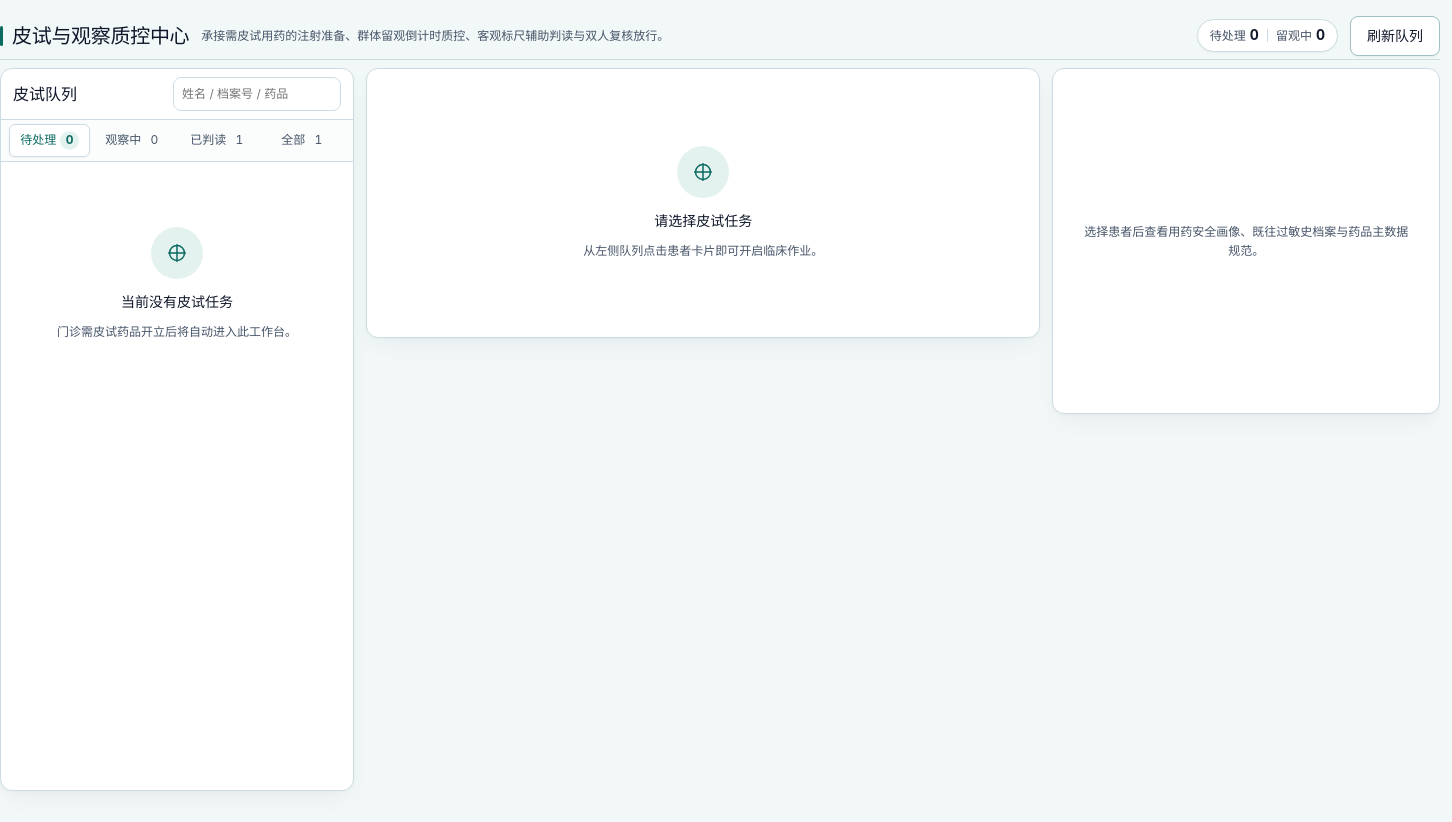
Test: SkinTestManagementWorkspace › renders nurse name and short code instead of database primary keys for executor and verifier
Click the button "已判读 1" at (220, 140), box [179, 124, 260, 157]
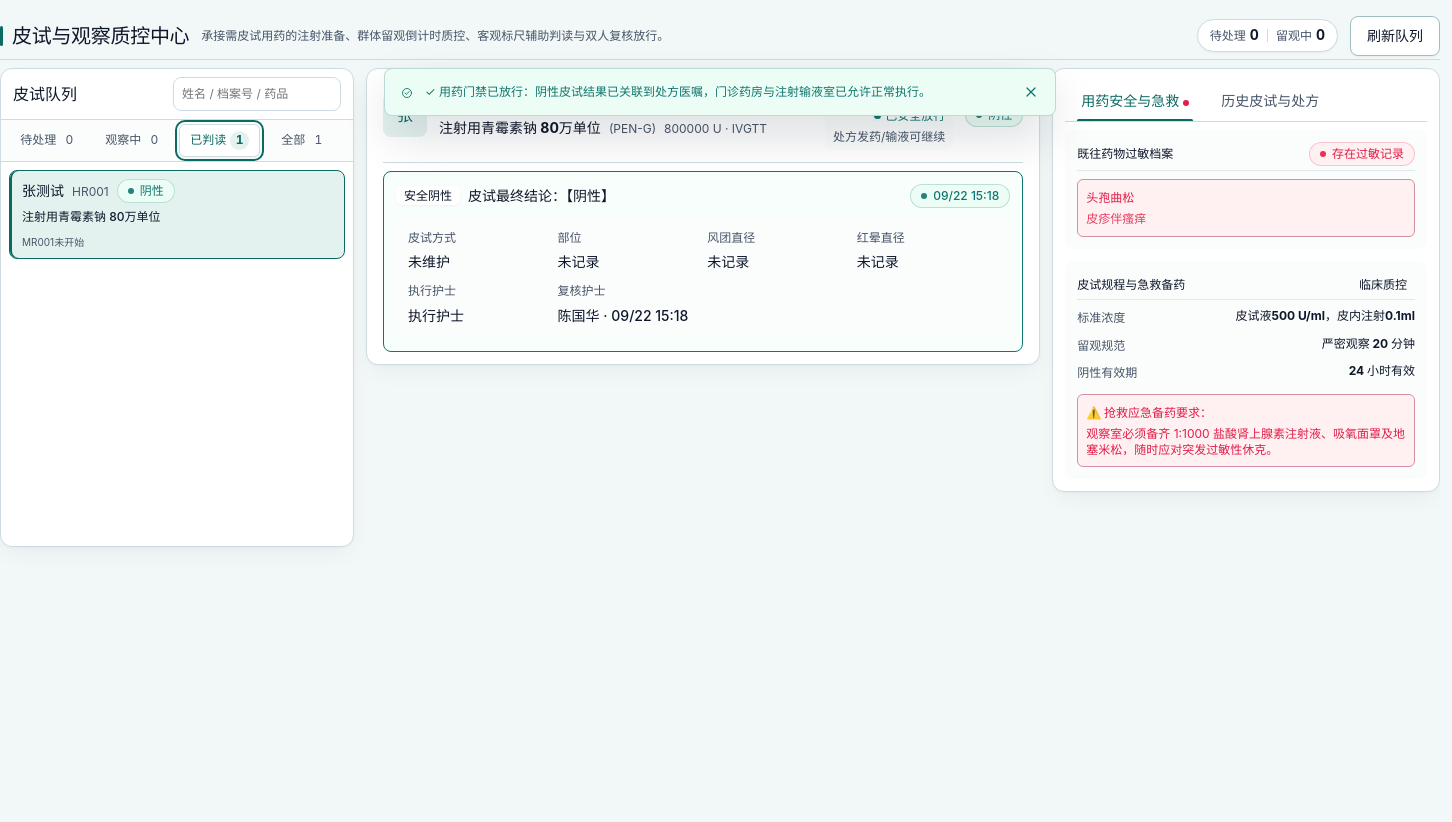
expect the heading "皮试最终结论：【阴性】" is shown: met, box [468, 185, 615, 206]
expect the text "陈国华 · 09/22 15:18" is shown: met, box [558, 304, 699, 327]
